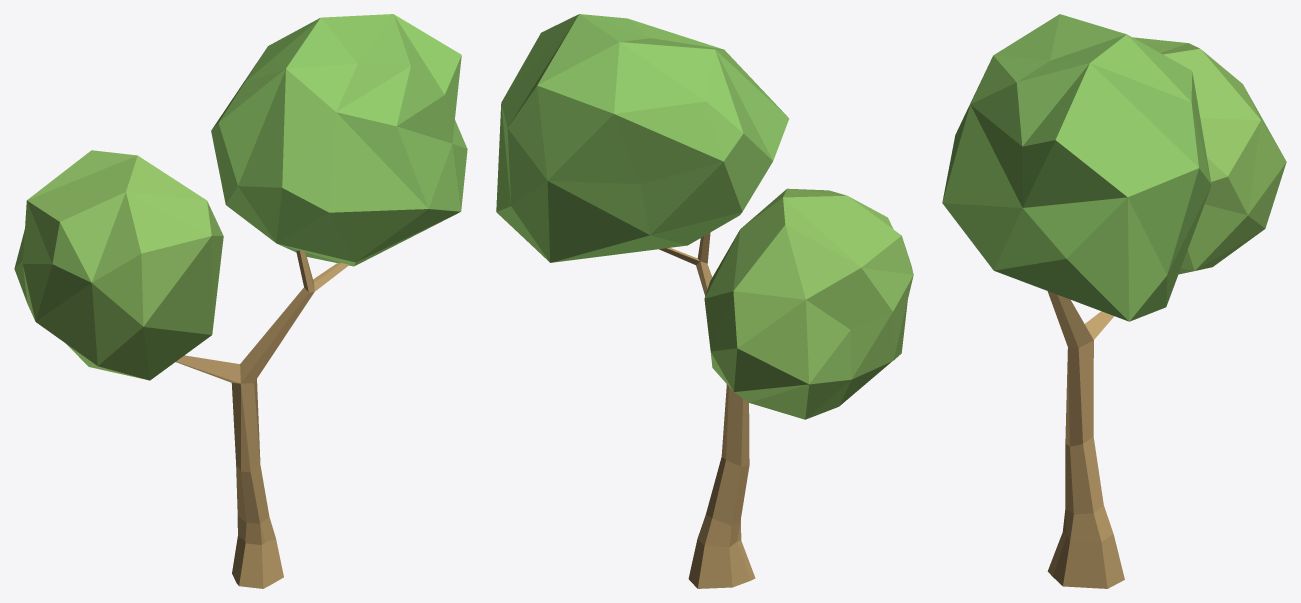
File: Oak_Tree_l_BT_05.fbx
3 renders of one model, left to right at view 1: azimuth 30°, elevation 25°; view 2: azimuth 150°, elevation 25°; view 3: azimuth 270°, elevation 25°, orthographic. The views are drawn at different scales.
Parts seen in each view (by area): view 1: Oak_Tree_l_BT_05; view 2: Oak_Tree_l_BT_05; view 3: Oak_Tree_l_BT_05.
Boxes of the visible parts, box(x1,y1,x2,y2) form: Oak_Tree_l_BT_05: box(14, 14, 467, 588); Oak_Tree_l_BT_05: box(496, 14, 913, 588); Oak_Tree_l_BT_05: box(942, 14, 1286, 588).
Bounding box in the file's own units: 889 × 1101 × 583.
